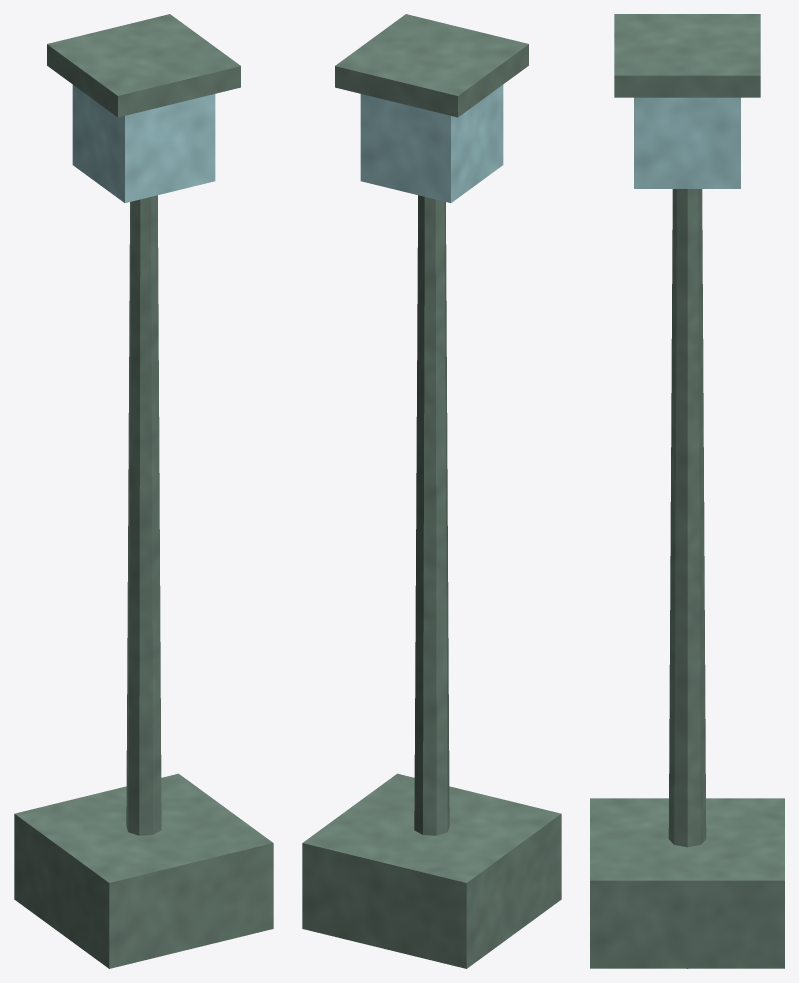
File: lamp.glb
3 renders of one model, left to right at view 1: azimuth 30°, elevation 25°; view 2: azimuth 150°, elevation 25°; view 3: azimuth 270°, elevation 25°, orthographic. The views are drawn at different scales.
Visible parts, largest first — view 1: lamp; view 2: lamp; view 3: lamp.
Boxes of the visible parts, <box> form: lamp: <box>14,14,273,968</box>; lamp: <box>302,14,561,968</box>; lamp: <box>590,14,784,968</box>.
Bounding box in the file's own units: 0.8 × 4.15 × 0.8.
1 material, 1 textured.
